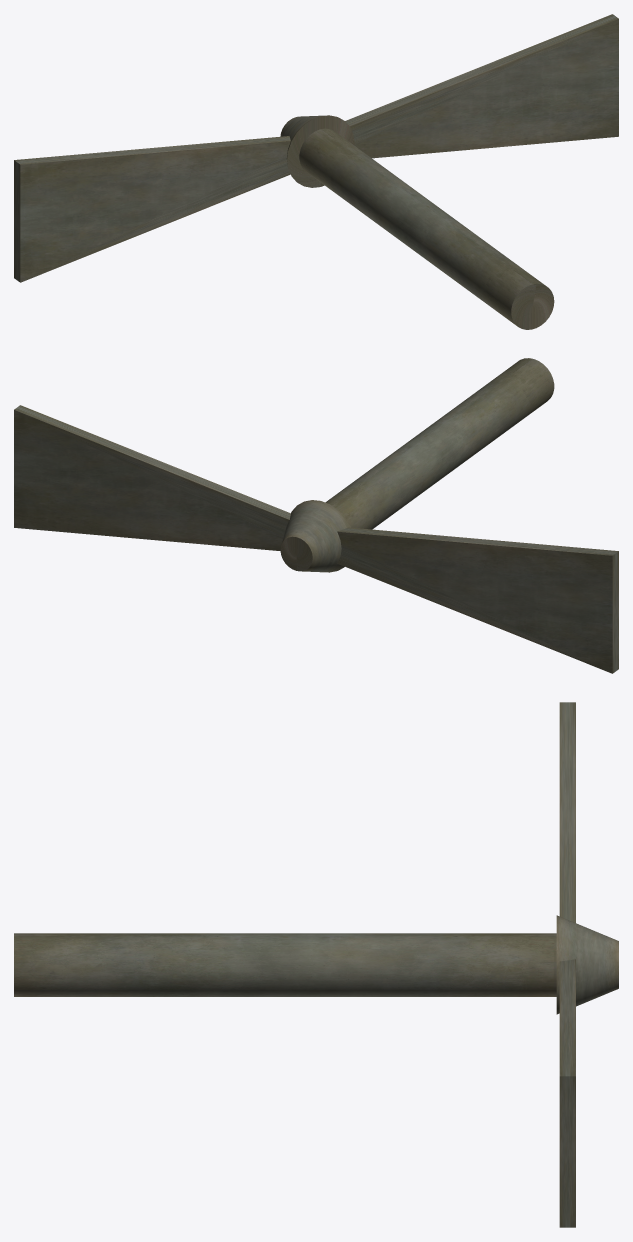
File: deathcube_fan.FBX
3 renders of one model, top to bottom at view 1: azimuth 30°, elevation 25°; view 2: azimuth 150°, elevation 25°; view 3: azimuth 270°, elevation 25°, orthographic. The views are drawn at different scales.
Visible parts, largest first — view 1: Box004, Box003, Cylinder001, Cone001; view 2: Box004, Box003, Cylinder001, Cone001; view 3: Cylinder001, Box003, Cone001, Box004.
Part boxes in pixels (box(x1,y1,x2,y2)): Box004: box(14, 136, 290, 282); Box003: box(345, 14, 618, 158); Cylinder001: box(299, 128, 554, 329); Cone001: box(280, 115, 354, 187); Box004: box(337, 527, 618, 673); Box003: box(14, 405, 290, 550); Cylinder001: box(325, 358, 554, 529); Cone001: box(280, 500, 350, 572); Cylinder001: box(14, 933, 556, 996); Box003: box(559, 959, 575, 1227); Cone001: box(556, 915, 618, 1014); Box004: box(559, 702, 575, 922).
Bounding box in the file's own units: 8.86 × 1.67 × 6.06.
1 material, 1 textured.
